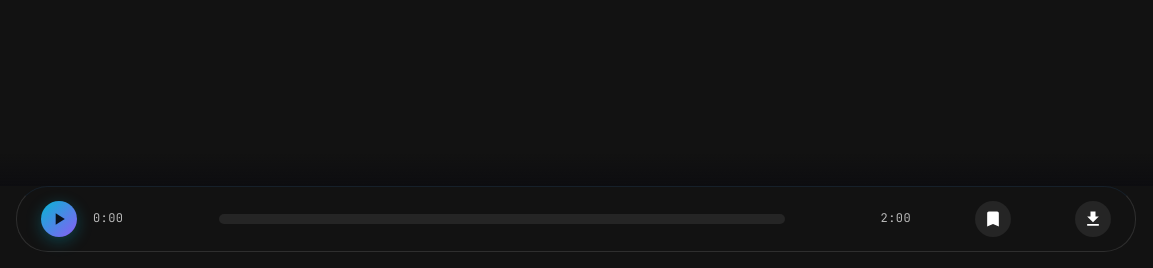
Test: ActionBar — Features atualizadas › mostra itens de download de cenas no menu quando há scenes
Click the button named "Opções de download". click: (1093,219)
box: [1075,201,1111,237]
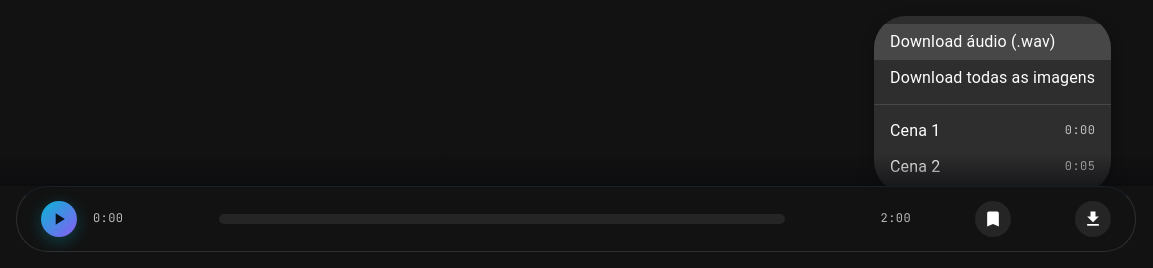
Result: the text "Download todas as imagens" is shown at [890,66,1095,90]
Result: the text "Cena 1" is shown at [890,119,940,143]
Result: the text "Cena 2" is shown at [890,155,940,179]
